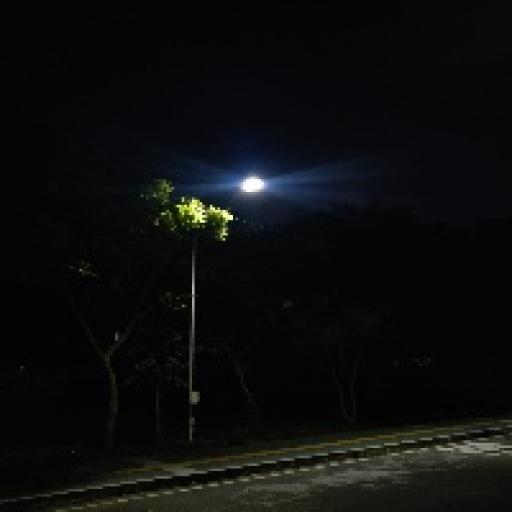Working: (230, 172, 274, 200)
